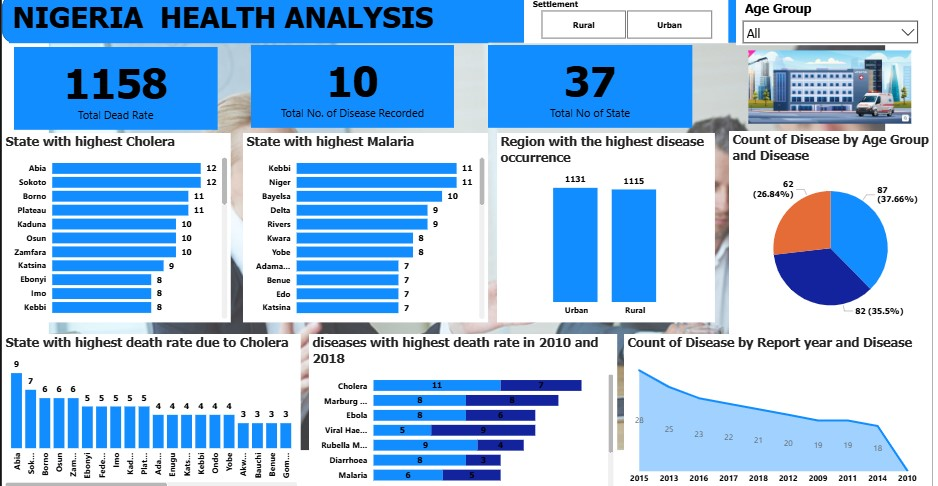

The dashboard page shown, as its layout file describes it:
{"tool":"powerbi","page":{"name":"Page 1","canvas":[1370,731],"ordinal":0},"visuals":[{"type":"clusteredBarChart","title":"State with  highest Cholera","fields":{"Category":["Disease dataset.State"],"Y":["CountNonNull(Disease dataset.Disease)"]},"box":[0,203.6,336.8,278.6],"z":0},{"type":"shape","box":[0,0,1279.7,70.4],"z":1000},{"type":"clusteredBarChart","title":"State with  highest Malaria","fields":{"Category":["Disease dataset.State"],"Y":["CountNonNull(Disease dataset.Disease)"]},"box":[355.1,202.9,361,279],"z":2000},{"type":"columnChart","title":"State with highest death rate due to Cholera","fields":{"Category":["Disease dataset.State"],"Series":["Disease dataset.Health status"],"Y":["CountNonNull(Disease dataset.Disease)"]},"box":[0,499.8,440.1,231.2],"z":3000},{"type":"clusteredColumnChart","title":"Region with the highest disease occurrence","fields":{"Category":["Disease dataset.Settlement"],"Y":["CountNonNull(Disease dataset.Disease)"]},"box":[729.5,202.9,320.7,279],"z":4000},{"type":"barChart","title":"diseases with highest death rate in 2010 and 2018","fields":{"Y":["CountNonNull(Disease dataset.Disease)"],"Category":["Disease dataset.Disease"],"Series":["Disease dataset.Report year"]},"box":[452,499.8,453.5,231.2],"z":5000},{"type":"stackedAreaChart","fields":{"Category":["Disease dataset.Report year"],"Y":["CountNonNull(Disease dataset.Disease)"],"Series":["Disease dataset.Disease"]},"box":[916,499.8,440.1,231.2],"z":6000},{"type":"textbox","box":[10.3,0,705.6,70.7],"z":7000},{"type":"pieChart","fields":{"Category":["Disease dataset.Age Group"],"Series":["Disease dataset.Disease"],"Y":["CountNonNull(Disease dataset.Disease)"]},"box":[1071.2,200,299.3,299.3],"z":8000},{"type":"card","fields":{"Values":["CountNonNull(Disease dataset.Health status)"]},"box":[17,77.3,299.6,122.5],"z":9000},{"type":"card","fields":{"Values":["Count(Disease dataset.Disease)"]},"box":[366.8,73.7,299,122.3],"z":10000},{"type":"card","fields":{"Values":["Count(Disease dataset.State)"]},"box":[715.9,73.7,300.5,122.3],"z":11000},{"type":"image","box":[1069.5,76.6,300.5,117.8],"z":11001},{"type":"slicer","fields":{"Values":["Disease dataset.Settlement"]},"box":[769,0,300.5,70.7],"z":11002},{"type":"slicer","fields":{"Values":["Disease dataset.Age Group"]},"box":[1081.3,2.9,278.4,70.7],"z":11003}]}

Visuals, with their boxes in screenshot pixels (x1, y1, x2, y2), scaled from the page's 1370x731 canvas onto the 938x486 screenshot:
"State with  highest Cholera" clusteredBarChart: rect(0, 135, 231, 321)
shape: rect(0, 0, 876, 47)
"State with  highest Malaria" clusteredBarChart: rect(243, 135, 490, 320)
"State with highest death rate due to Cholera" columnChart: rect(0, 332, 301, 485)
"Region with the highest disease occurrence" clusteredColumnChart: rect(499, 135, 719, 320)
"diseases with highest death rate in 2010 and 2018" barChart: rect(309, 332, 620, 485)
stackedAreaChart - Disease dataset.Report year x CountNonNull(Disease dataset.Disease): rect(627, 332, 928, 485)
textbox: rect(7, 0, 490, 47)
pieChart - Disease dataset.Age Group x Disease dataset.Disease: rect(733, 133, 937, 332)
card - CountNonNull(Disease dataset.Health status): rect(12, 51, 217, 133)
card - Count(Disease dataset.Disease): rect(251, 49, 456, 130)
card - Count(Disease dataset.State): rect(490, 49, 696, 130)
image: rect(732, 51, 937, 129)
slicer - Disease dataset.Settlement: rect(527, 0, 732, 47)
slicer - Disease dataset.Age Group: rect(740, 2, 931, 49)
